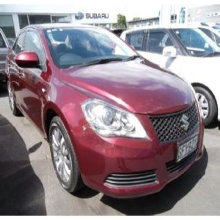no damage: (6, 22, 205, 199), (122, 25, 220, 76)
